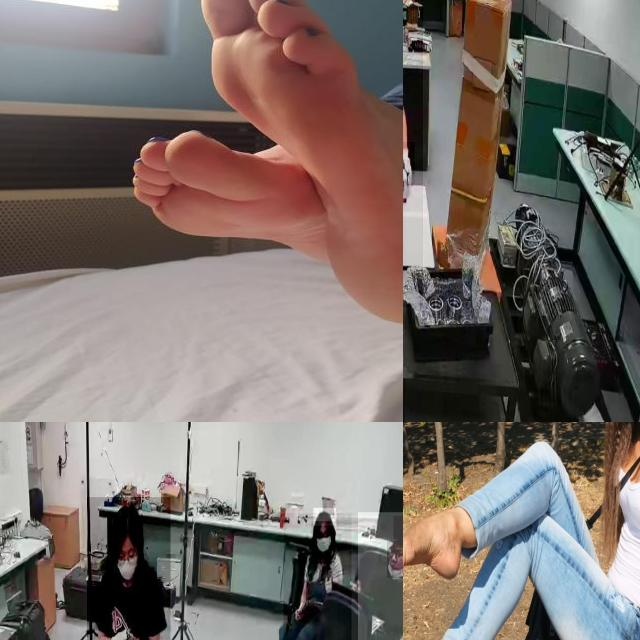Barefoots: (204, 0, 403, 334), (120, 108, 330, 262), (403, 517, 461, 580)
face_mask: (87, 497, 171, 640), (116, 536, 143, 582), (312, 521, 336, 564)
face_nomask: (387, 540, 403, 578)
glasses: (115, 554, 137, 569), (387, 544, 403, 562)
hand_glove: (403, 141, 415, 186), (108, 620, 135, 640)
head_nohelmet: (114, 500, 142, 545), (314, 508, 336, 526), (393, 516, 403, 548)
person: (283, 513, 352, 640), (403, 3, 423, 308), (358, 512, 403, 640)
